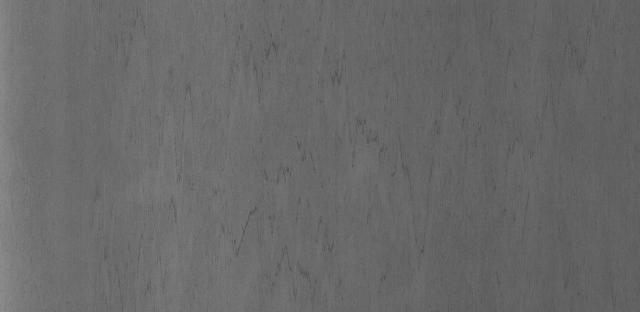silk_spot: (152, 38, 549, 292)
